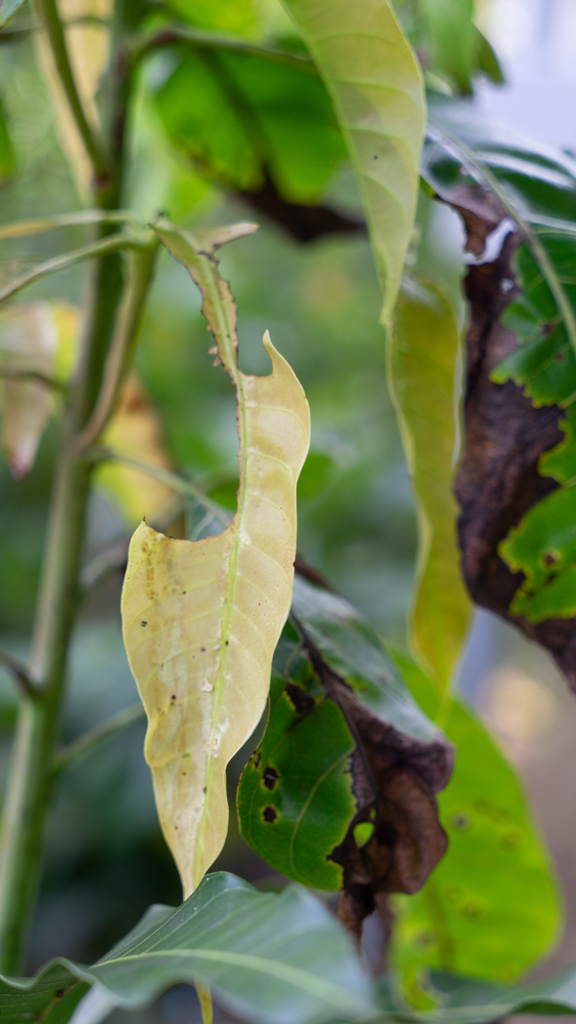Pepper yellow leaf: (120, 224, 311, 914), (313, 13, 467, 706)
